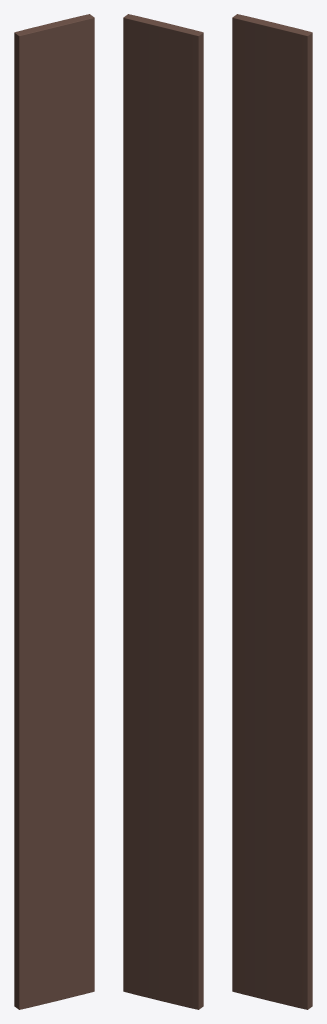
The model's file is Sujetador.fbx.
3 renders of one model, left to right at view 1: azimuth 30°, elevation 25°; view 2: azimuth 150°, elevation 25°; view 3: azimuth 330°, elevation 25°, orthographic.
Visible parts, largest first — view 1: pCube8; view 2: pCube8; view 3: pCube8.
Boxes of the visible parts, <box> form: pCube8: <box>14,14,94,1009</box>; pCube8: <box>123,14,203,1009</box>; pCube8: <box>232,14,312,1009</box>.
Bounding box in the file's own units: 0.3248 × 4.01 × 0.0396.
